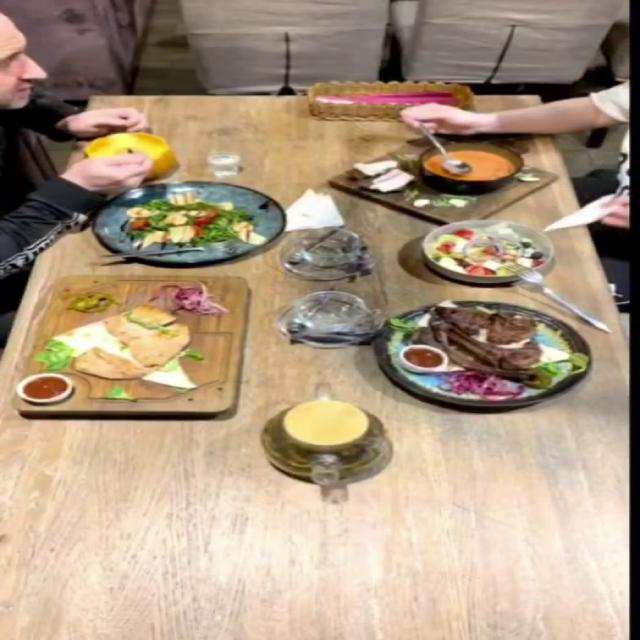alcohol: (214, 149, 261, 180)
meat: (371, 299, 591, 406)
salat: (88, 182, 283, 264), (421, 219, 556, 284)
soup: (325, 139, 558, 226), (84, 133, 177, 179)
tea: (282, 399, 369, 446)
